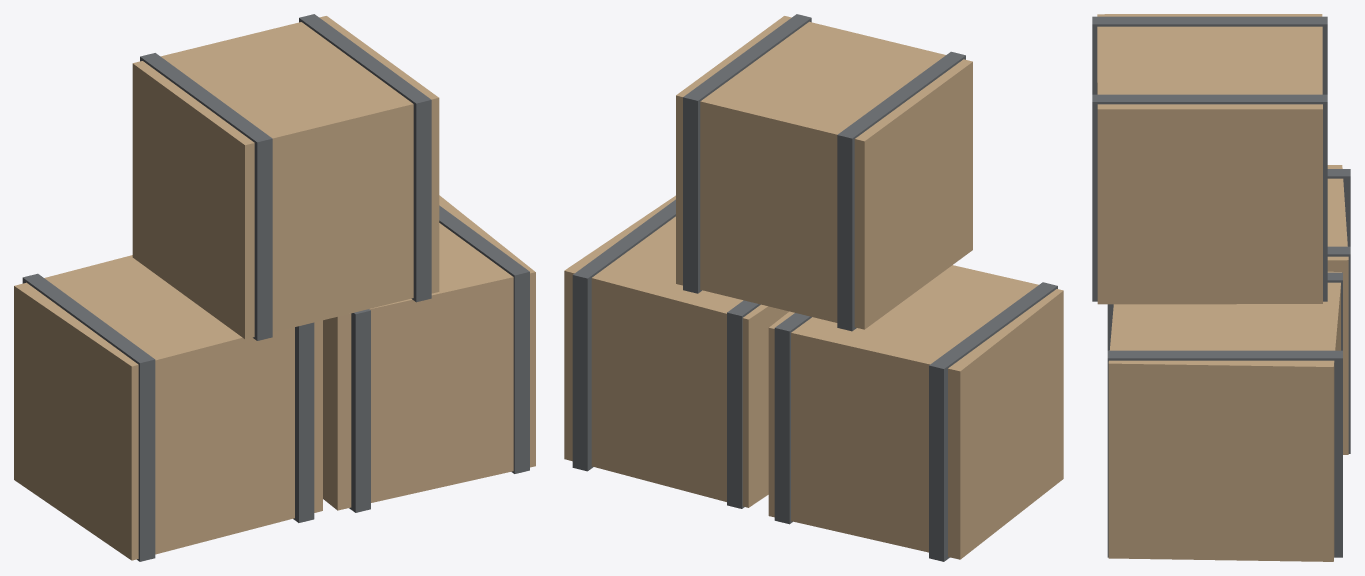
The model's file is crate_stack_06.glb.
3 views of the same model, side by side, from view 1: azimuth 30°, elevation 25°; view 2: azimuth 150°, elevation 25°; view 3: azimuth 270°, elevation 25° (orthographic). The views are drawn at different scales.
Parts seen in each view (by area): view 1: crate2, crate0, crate1, brace2_0.18, brace2_-0.18, brace0_-0.18, brace1_0.18, brace1_-0.18, brace0_0.18; view 2: crate2, crate0, crate1, brace0_-0.18, brace1_0.18, brace2_-0.18, brace2_0.18, brace0_0.18, brace1_-0.18; view 3: crate2, crate1, brace2_0.18, brace1_0.18, brace2_-0.18, crate0, brace0_0.18, brace0_-0.18, brace1_-0.18.
Part boxes in pixels (x1=…): crate2: x1=132, y1=16, x2=439, y2=339; crate0: x1=14, y1=255, x2=322, y2=560; crate1: x1=323, y1=195, x2=535, y2=510; brace2_0.18: x1=299, y1=14, x2=431, y2=302; brace2_-0.18: x1=140, y1=53, x2=272, y2=340; brace0_-0.18: x1=22, y1=273, x2=155, y2=561; brace1_0.18: x1=439, y1=205, x2=529, y2=473; brace1_-0.18: x1=349, y1=309, x2=370, y2=512; brace0_0.18: x1=293, y1=322, x2=314, y2=522; crate2: x1=676, y1=16, x2=972, y2=329; crate0: x1=768, y1=265, x2=1063, y2=559; crate1: x1=564, y1=195, x2=788, y2=507; brace0_-0.18: x1=929, y1=282, x2=1057, y2=561; brace1_0.18: x1=572, y1=199, x2=675, y2=471; brace2_-0.18: x1=837, y1=51, x2=965, y2=331; brace2_0.18: x1=683, y1=14, x2=811, y2=293; brace0_0.18: x1=774, y1=313, x2=811, y2=524; brace1_-0.18: x1=727, y1=300, x2=760, y2=508; crate2: x1=1097, y1=14, x2=1322, y2=304; crate1: x1=1108, y1=271, x2=1341, y2=561; brace2_0.18: x1=1092, y1=94, x2=1327, y2=301; brace1_0.18: x1=1107, y1=350, x2=1342, y2=557; brace2_-0.18: x1=1092, y1=16, x2=1327, y2=94; crate0: x1=1327, y1=165, x2=1348, y2=454; brace0_0.18: x1=1327, y1=246, x2=1350, y2=453; brace0_-0.18: x1=1327, y1=169, x2=1350, y2=246; brace1_-0.18: x1=1107, y1=272, x2=1342, y2=350.
Bounding box in the file's own units: 0.9341 × 0.87 × 0.5047.
